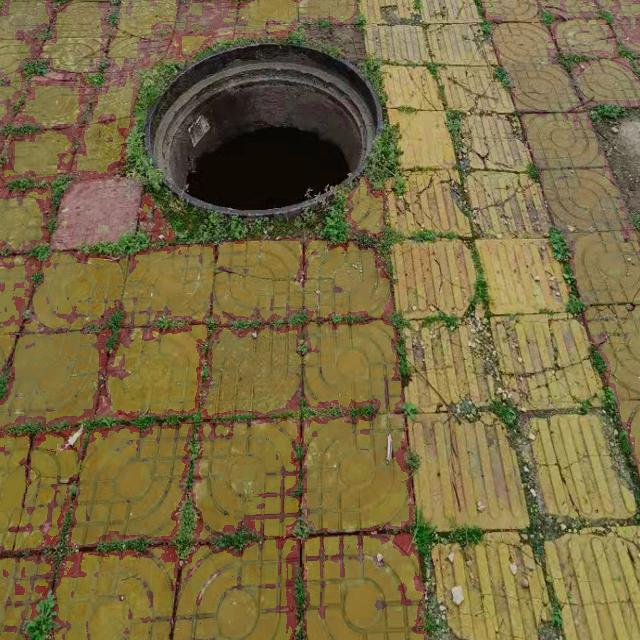lose: (145, 36, 381, 218)
